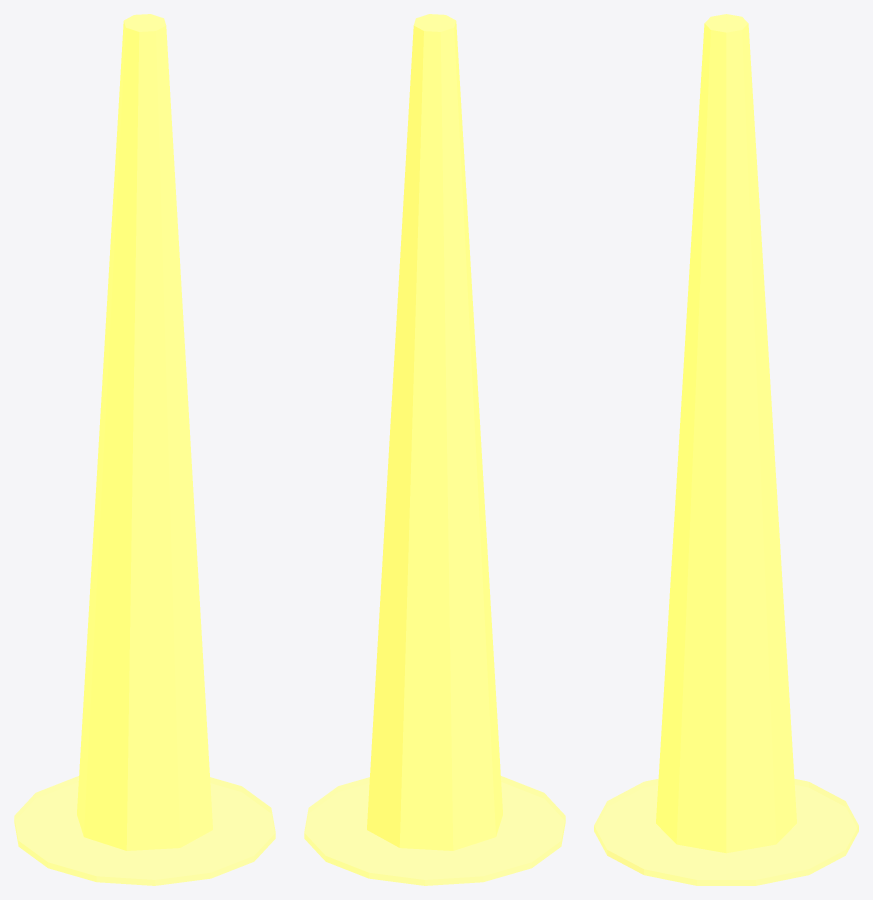
File: fx_pickup_pillar_gold.glb
3 views of the same model, side by side, from view 1: azimuth 30°, elevation 25°; view 2: azimuth 150°, elevation 25°; view 3: azimuth 270°, elevation 25° (orthographic).
Parts seen in each view (by area): view 1: fx_pickup_pillar_gold; view 2: fx_pickup_pillar_gold; view 3: fx_pickup_pillar_gold.
Boxes of the visible parts, box(x1,y1,x2,y2) form: fx_pickup_pillar_gold: box(14, 14, 275, 885); fx_pickup_pillar_gold: box(304, 14, 565, 885); fx_pickup_pillar_gold: box(594, 14, 858, 885).
Size of the model in its own units: 0.585 by 2.02 by 0.6.
